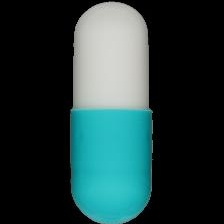55289-565: (0, 0, 224, 224)
